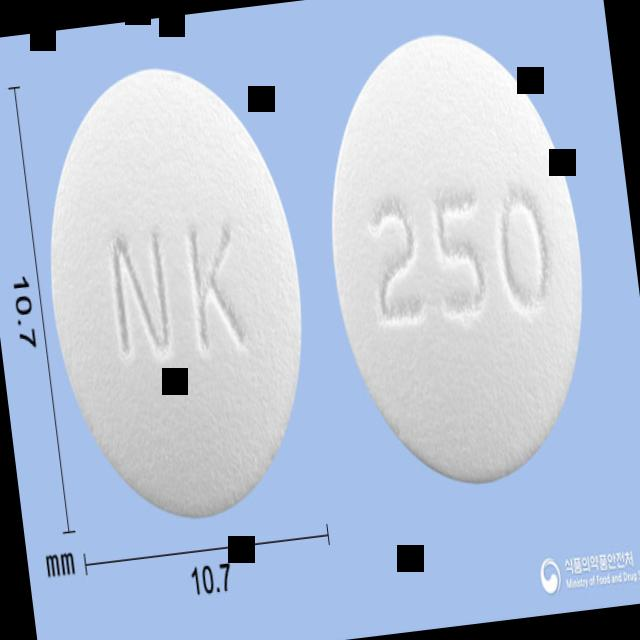Avelox: (307, 16, 608, 498), (26, 52, 327, 533)
